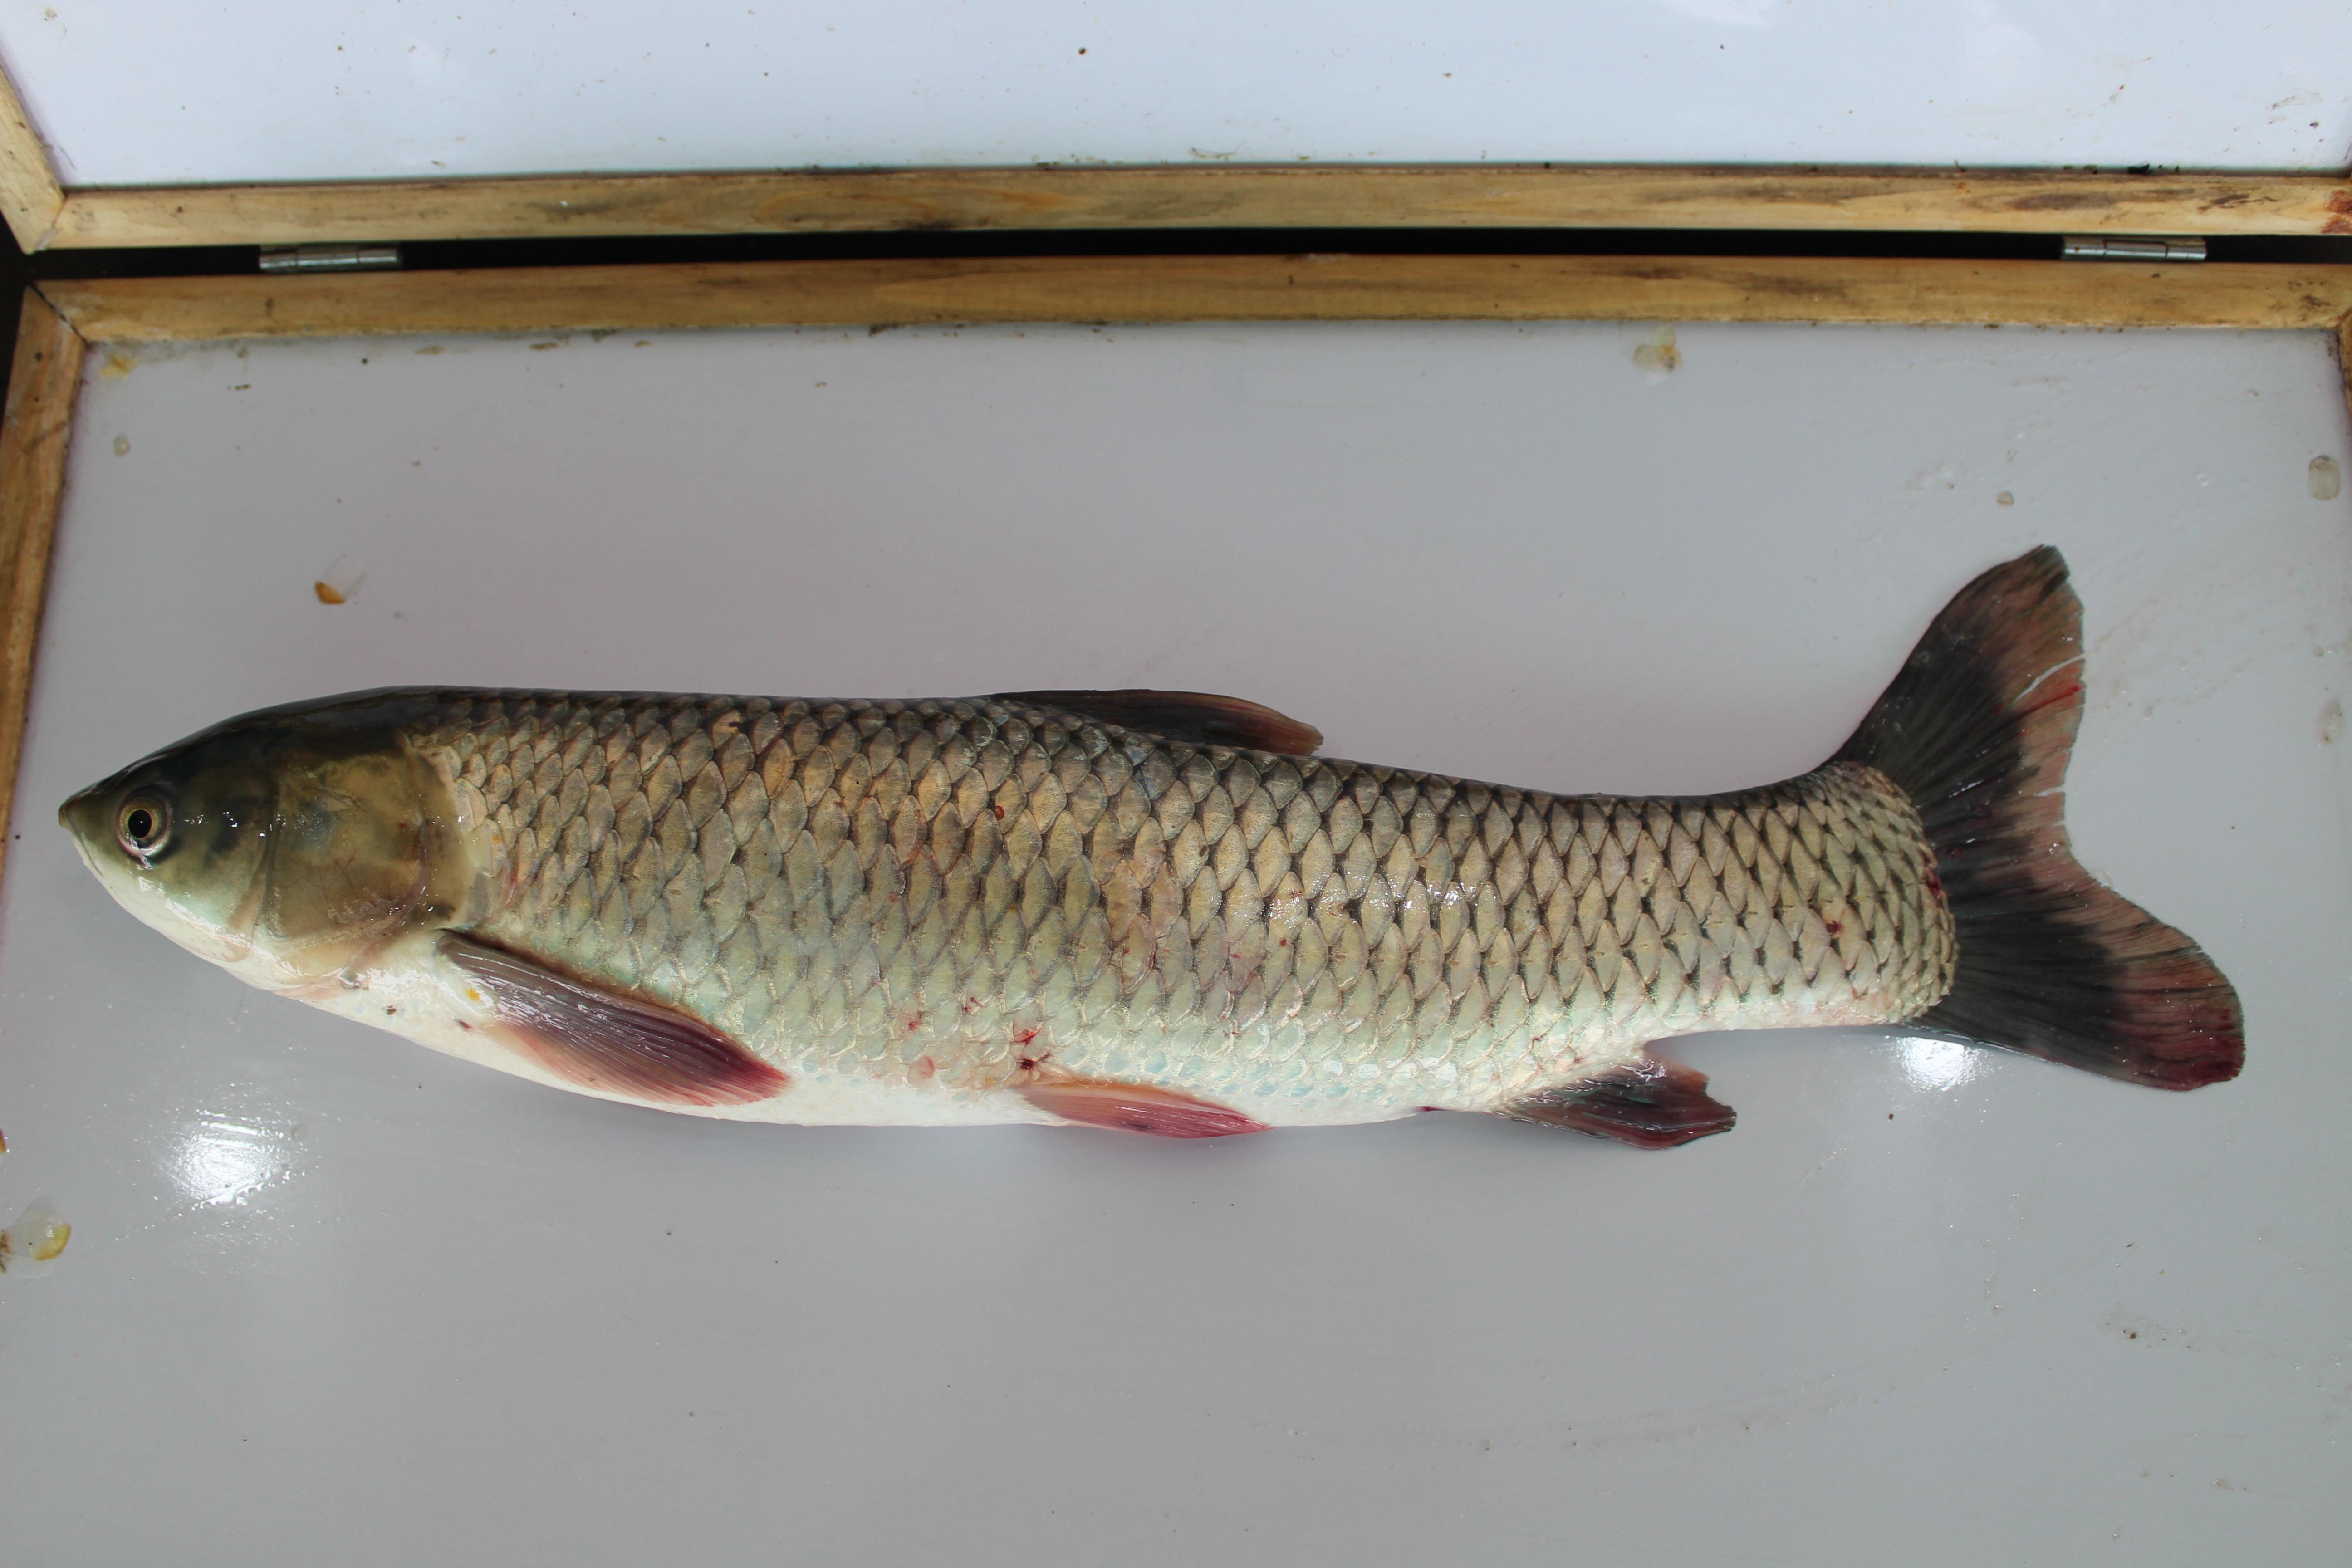Grass Carp: (56, 535, 2247, 1153)
